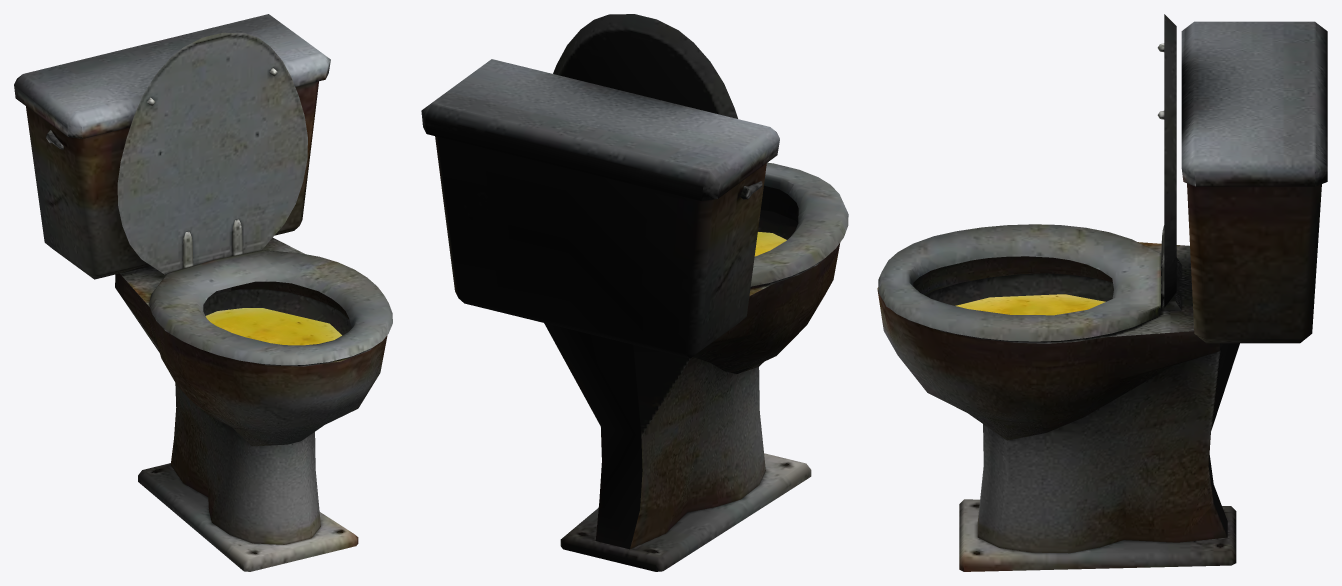
The model's file is Toilet.glb.
The picture shows the model from 3 angles, left to right: view 1: azimuth 30°, elevation 25°; view 2: azimuth 150°, elevation 25°; view 3: azimuth 270°, elevation 25°; orthographic projection. The views are drawn at different scales.
Visible parts, largest first — view 1: Object_2, Object_3; view 2: Object_2; view 3: Object_2, Object_3.
Boxes of the visible parts, left/top/right/bottom form: Object_2: left=14, top=14, right=392, bottom=571; Object_3: left=205, top=308, right=341, bottom=345; Object_2: left=421, top=14, right=848, bottom=571; Object_2: left=877, top=14, right=1327, bottom=571; Object_3: left=955, top=294, right=1105, bottom=315.
Bounding box in the file's own units: 0.5342 × 0.8857 × 0.7003.
2 materials, 2 textured.
